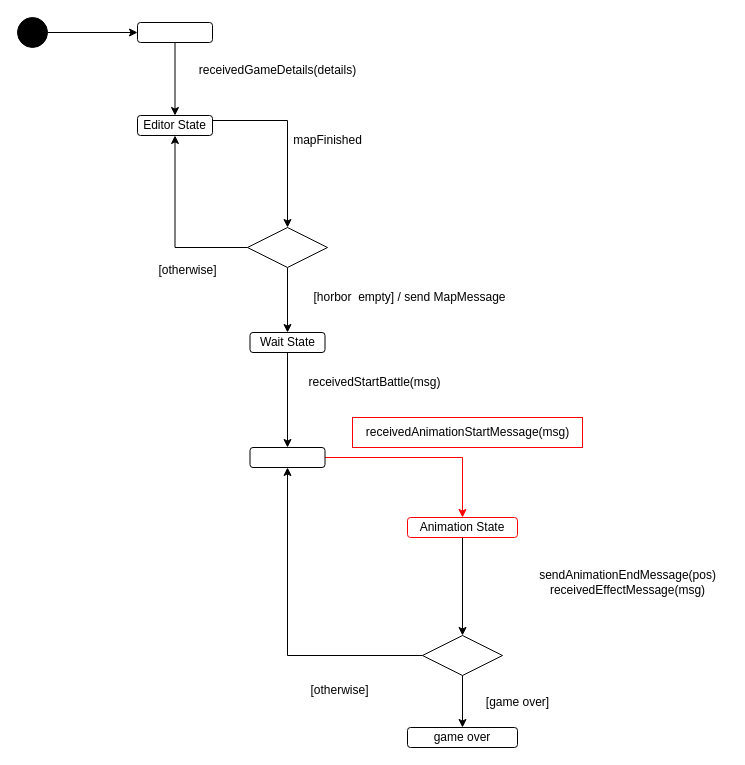
Some shapes in this 745 by 765 pixel diagram are drawn without their labels. The shapes that lost their labels are listed below. From the top down, each one's centre as x and y in pixels, then its label:
At (174,32): "Initial State".
At (287,457): "Battle State".
